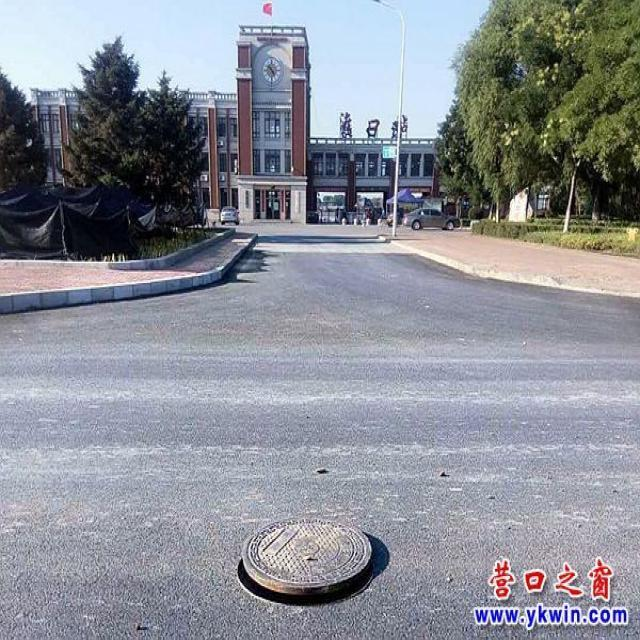manhole: (239, 520, 375, 603)
